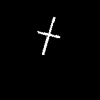single_crochet: (38, 17, 59, 54)
